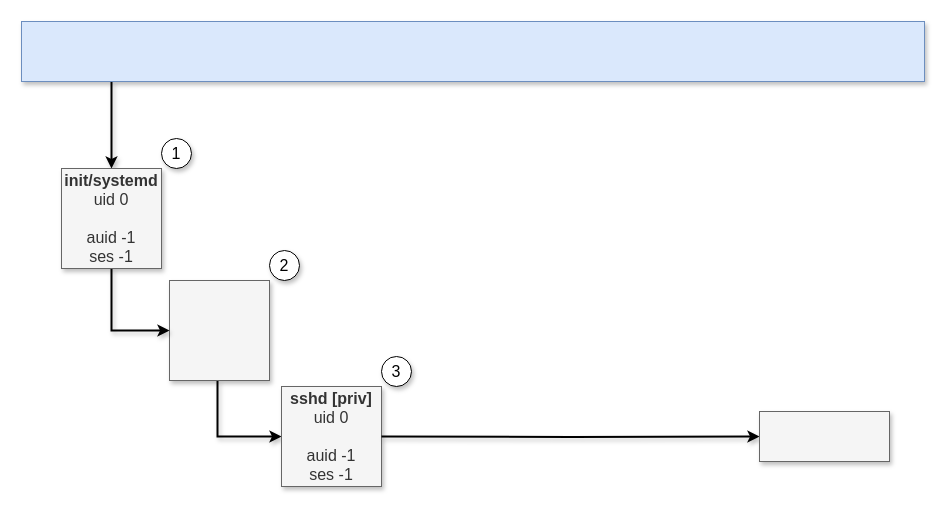
Image size: 948x511. Some labels were removed from this diagram. The centre of each missing label's shape, as x and y in pixels:
"pam_loginuid.so" belongs at point (825, 437).
"sshd uid 0 auid -1 ses -1" belongs at point (220, 332).
"Ядро" belongs at point (473, 52).
